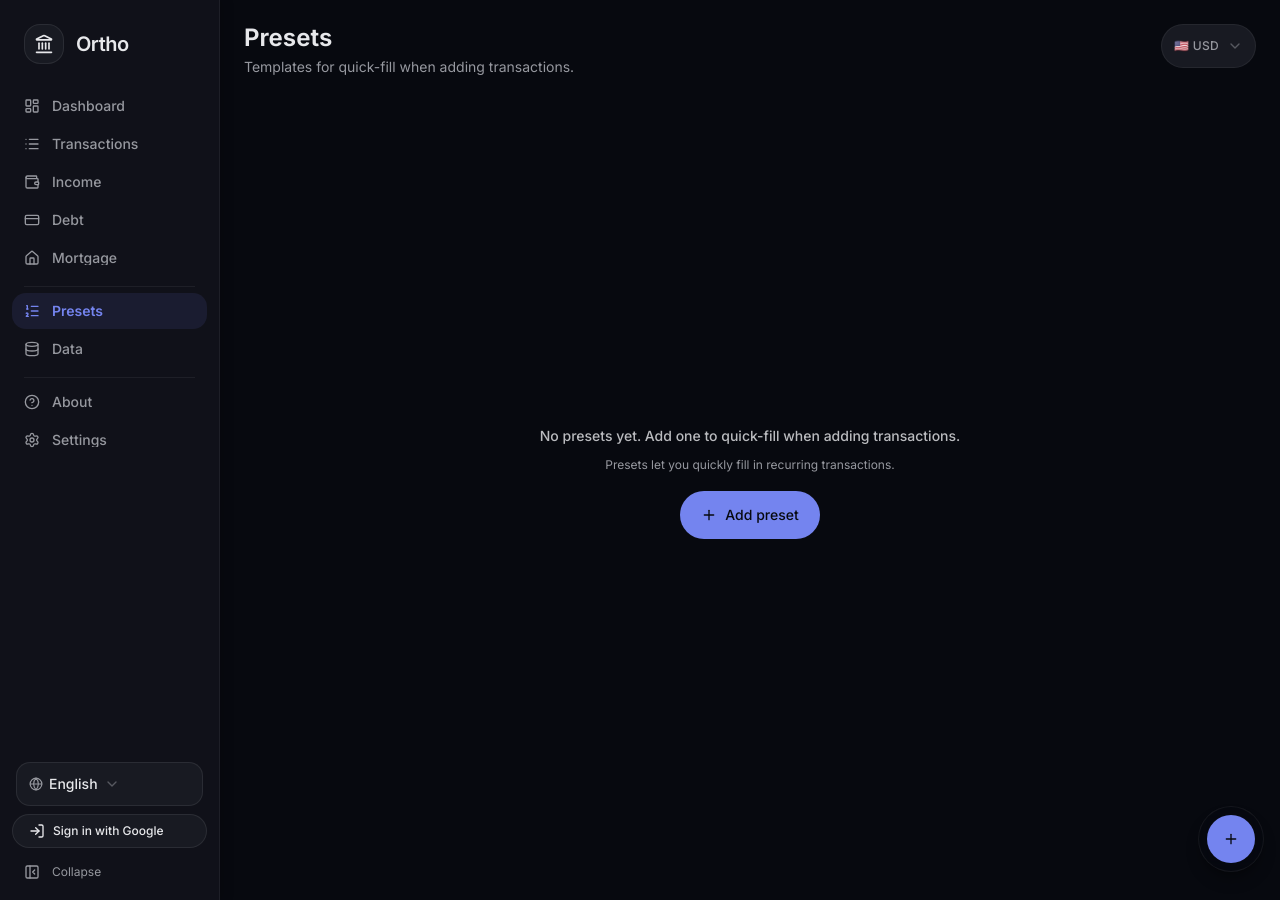
Test: PresetsPage opens add preset sheet when clicking the add button
Click the button "Add preset". click: click(750, 515)
box: [680,491,820,539]
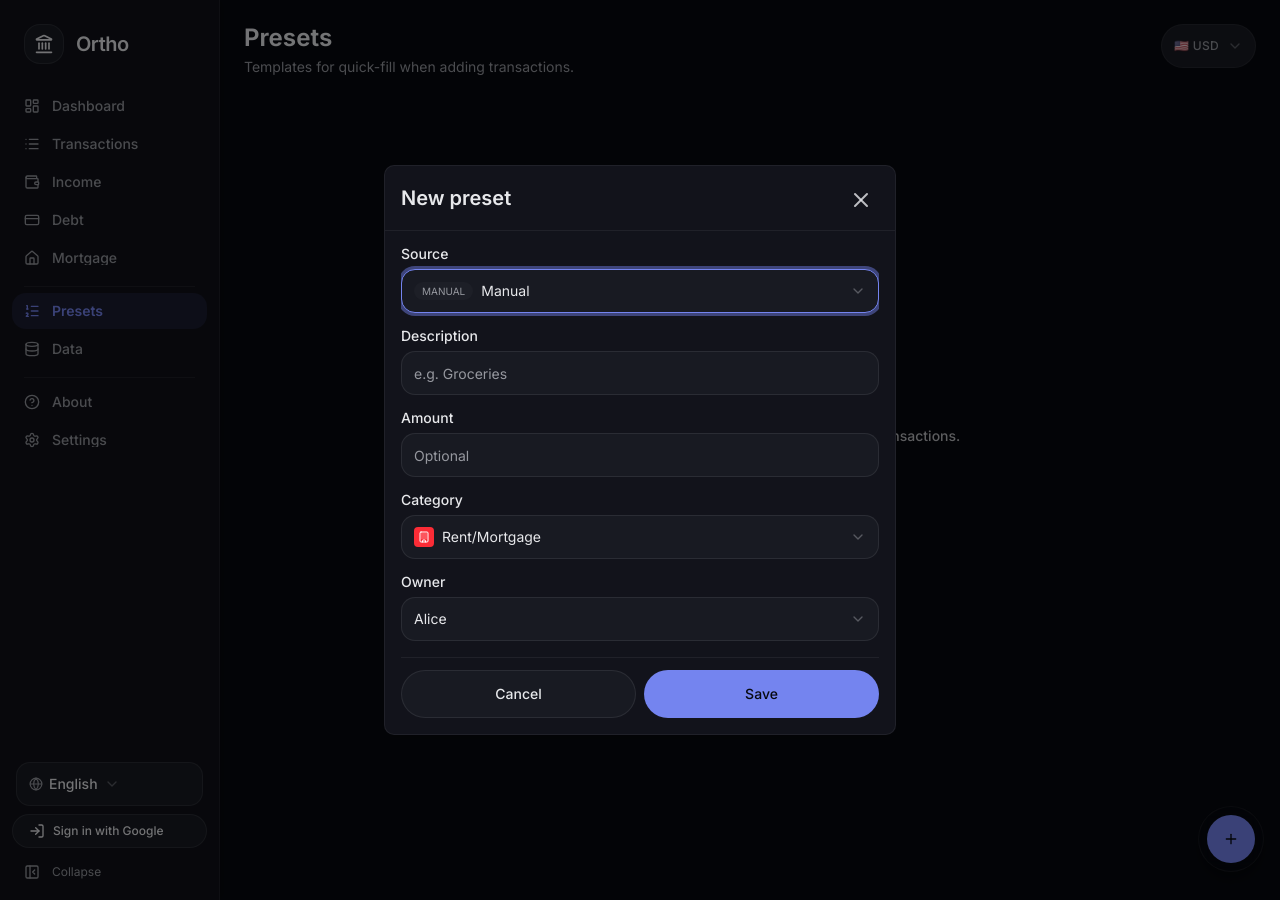
expect the text "New preset" is shown: met, box [401,186,511,210]
